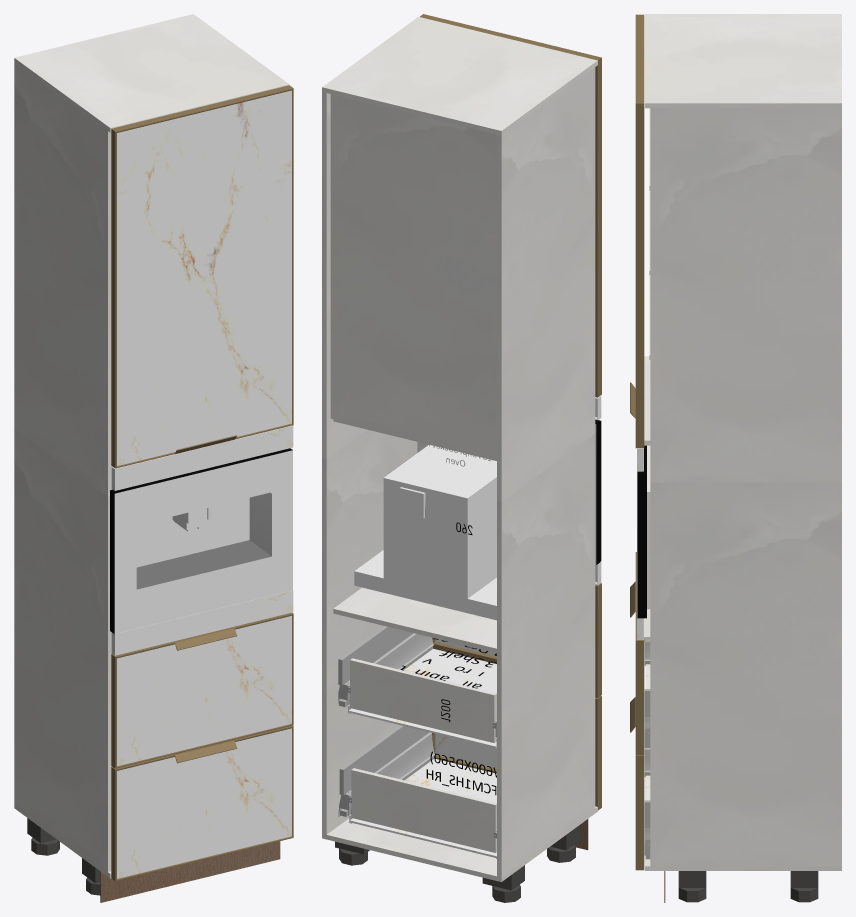
File: TC-CF-TTS-ST-3SX-2HB-RHS-600-2400-560-15.glb
The picture shows the model from 3 angles, left to right: view 1: azimuth 30°, elevation 25°; view 2: azimuth 150°, elevation 25°; view 3: azimuth 270°, elevation 25°; orthographic projection. The views are drawn at different scales.
Parts seen in each view (by area): view 1: TP_node_0, Object_node_71, Object_node_69, Object_node_67, TP, SKP_Component2, SKP_Component1, TP_node_12, TP_node_11, Object_node_77, SKP_Component3, Extrusion_node_18 (+7 smaller); view 2: TP_node_0, TP_node_13, TP_node_1, TP, SKP_Component4, TP_node_5, TP_node_3, TP_node_10, TP_node, TP_node_4, SKP_Component0_node, TP_node_2 (+12 smaller); view 3: TP_node_1, TP, Extrusion_node_16, SKP_Component0, Extrusion_node_2, Extrusion_node_9, TP_node, Extrusion_node_17, TP_node_9, SKP_Component4, Plate_node_1, Plate_node.
Boxes of the visible parts, <box> form: TP_node_0: <box>14,63,112,871</box>; Object_node_71: <box>117,90,291,465</box>; Object_node_69: <box>117,615,291,766</box>; Object_node_67: <box>117,728,291,878</box>; TP: <box>14,14,289,132</box>; SKP_Component2: <box>114,450,292,633</box>; SKP_Component1: <box>136,492,271,604</box>; TP_node_12: <box>113,425,293,490</box>; TP_node_11: <box>113,590,293,655</box>; Object_node_77: <box>100,841,280,902</box>; SKP_Component3: <box>136,540,271,589</box>; Extrusion_node_18: <box>111,129,116,468</box>; TP_node_0: <box>497,67,595,877</box>; TP_node_13: <box>330,94,496,458</box>; TP_node_1: <box>322,92,417,834</box>; TP: <box>322,16,597,135</box>; SKP_Component4: <box>383,424,596,598</box>; TP_node_5: <box>350,658,496,743</box>; TP_node_3: <box>351,768,496,852</box>; TP_node_10: <box>333,582,595,653</box>; TP_node: <box>322,806,597,881</box>; TP_node_4: <box>348,648,496,748</box>; SKP_Component0_node: <box>354,550,496,620</box>; TP_node_2: <box>350,758,496,857</box>; TP_node_1: <box>650,108,841,866</box>; TP: <box>645,14,841,108</box>; Extrusion_node_16: <box>635,103,644,448</box>; SKP_Component0: <box>637,445,646,618</box>; Extrusion_node_2: <box>635,756,644,870</box>; Extrusion_node_9: <box>635,641,644,755</box>; TP_node: <box>645,777,841,870</box>; Extrusion_node_17: <box>635,14,644,103</box>; TP_node_9: <box>644,356,650,445</box>; SKP_Component4: <box>647,445,650,594</box>; Plate_node_1: <box>678,871,706,887</box>; Plate_node: <box>790,871,818,887</box>.
Size of what is drawn, in the model's own units: 0.6 by 2.5 by 0.6.
Materials: 10 (3 with a texture image).
